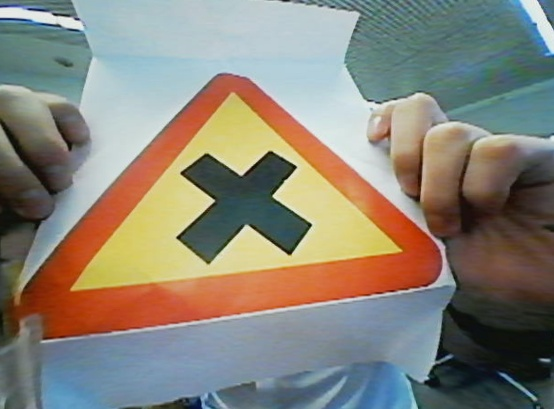junction: (15, 55, 487, 337)
